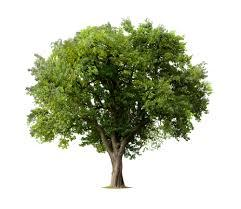tree: (26, 17, 214, 189)
